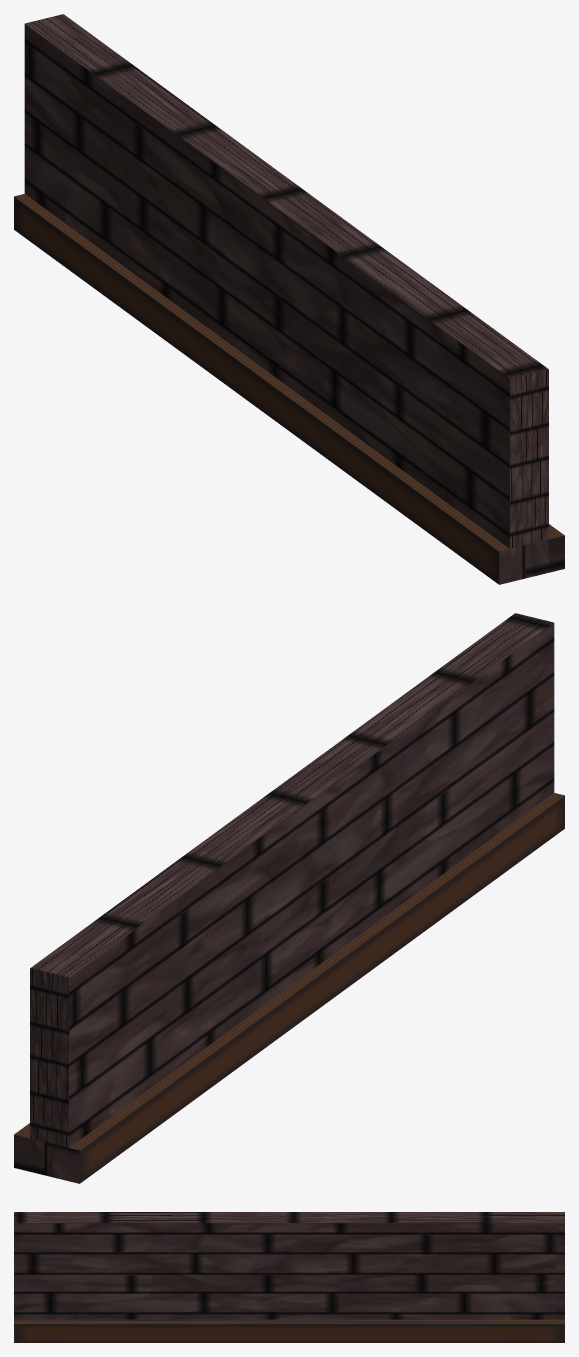
Rendered from Wall.fbx.
3 views of the same model, one above another, from view 1: azimuth 30°, elevation 25°; view 2: azimuth 150°, elevation 25°; view 3: azimuth 270°, elevation 25° (orthographic). The views are drawn at different scales.
Visible parts, largest first — view 1: Cube; view 2: Cube; view 3: Cube.
Part boxes in pixels (<box>): Cube: <box>14,14,564,584</box>; Cube: <box>14,613,564,1183</box>; Cube: <box>14,1212,564,1342</box>.
Size of the model in its own units: 84.52 by 250 by 1080.
1 material, 1 textured.
